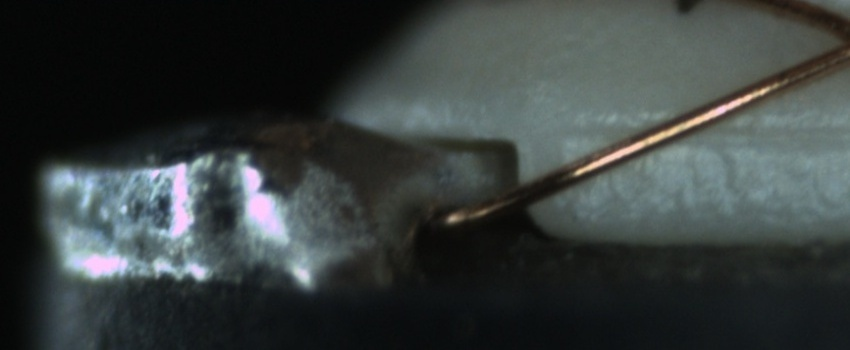DL: (565, 96, 847, 163)
